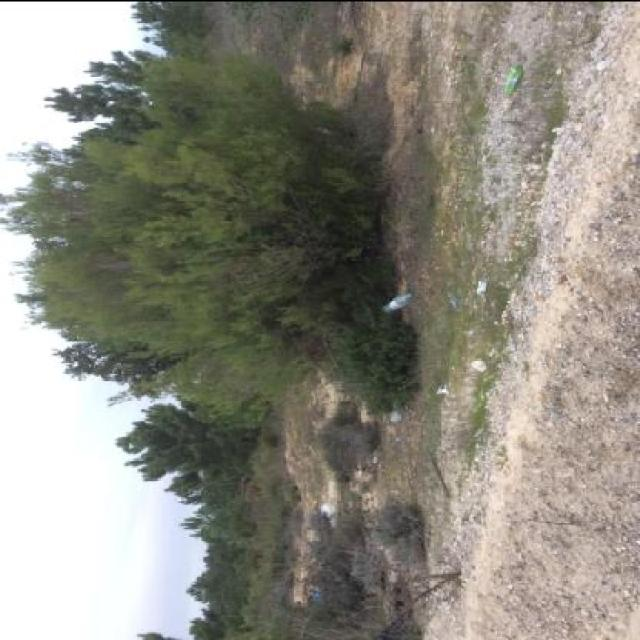cardboard: (504, 66, 522, 91)
plastic: (382, 292, 412, 313)
